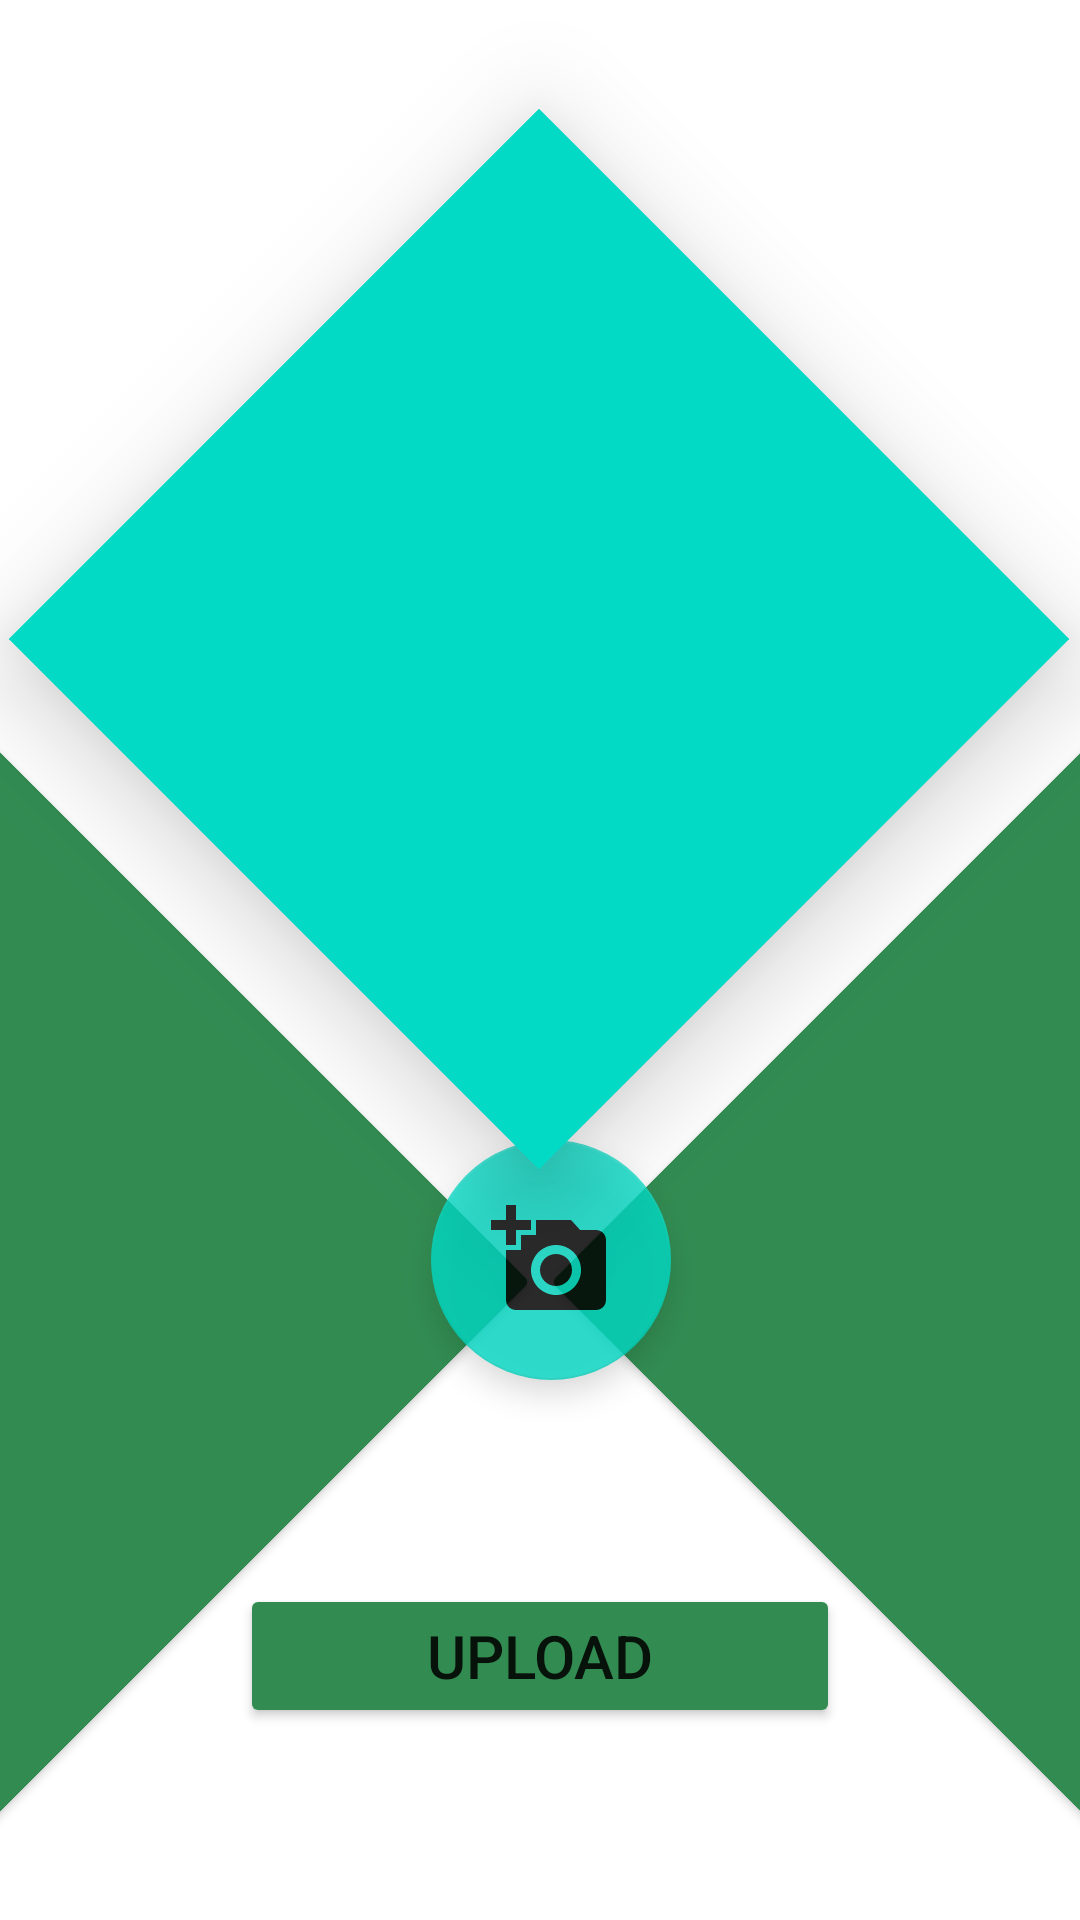

Where to tap for icons on this 1080px×1920px app screen, as [x,y]:
camera: [551,1260]
